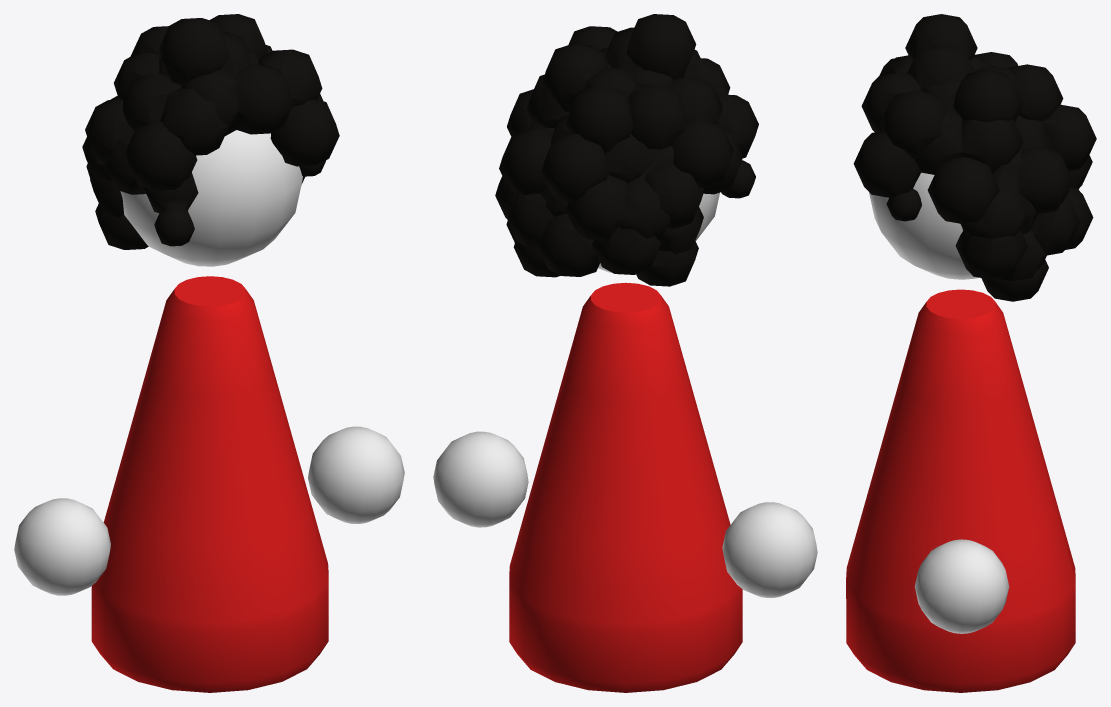
File: mom.fbx
3 renders of one model, left to right at view 1: azimuth 30°, elevation 25°; view 2: azimuth 150°, elevation 25°; view 3: azimuth 270°, elevation 25°, orthographic. The views are drawn at different scales.
Visible parts, largest first — view 1: Cylinder002, Sphere057, Sphere004, Sphere007, Sphere006; view 2: Cylinder002, Sphere057, Sphere006, Sphere007; view 3: Cylinder002, Sphere057, Sphere006, Sphere004.
Part boxes in pixels (left/top/right/bottom): Cylinder002: left=91, top=276, right=328, bottom=692; Sphere057: left=82, top=14, right=339, bottom=249; Sphere004: left=120, top=130, right=302, bottom=266; Sphere007: left=14, top=498, right=110, bottom=595; Sphere006: left=308, top=426, right=404, bottom=523; Cylinder002: left=509, top=282, right=742, bottom=692; Sphere057: left=495, top=14, right=758, bottom=286; Sphere006: left=433, top=431, right=528, bottom=527; Sphere007: left=722, top=502, right=817, bottom=597; Cylinder002: left=846, top=289, right=1075, bottom=692; Sphere057: left=853, top=14, right=1096, bottom=301; Sphere006: left=914, top=539, right=1009, bottom=633; Sphere004: left=869, top=172, right=978, bottom=279.
Size of the model in its own units: 1.12 by 1.81 by 0.6624.
